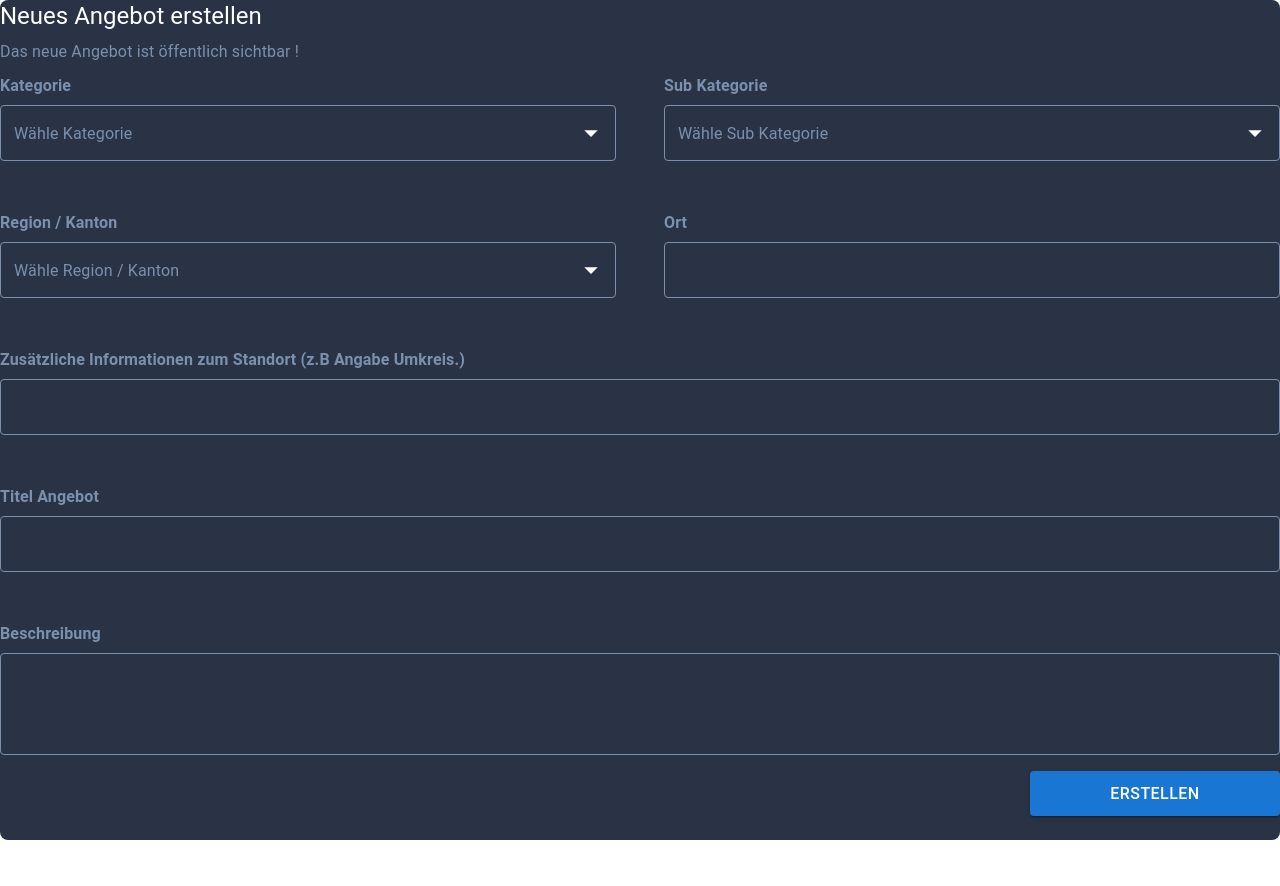
Test case: Create public-service component › shows validation errors for empty fields
The image size is (1280, 886).
Click the button "Erstellen".
click(1155, 794)  # box [1030, 771, 1279, 816]
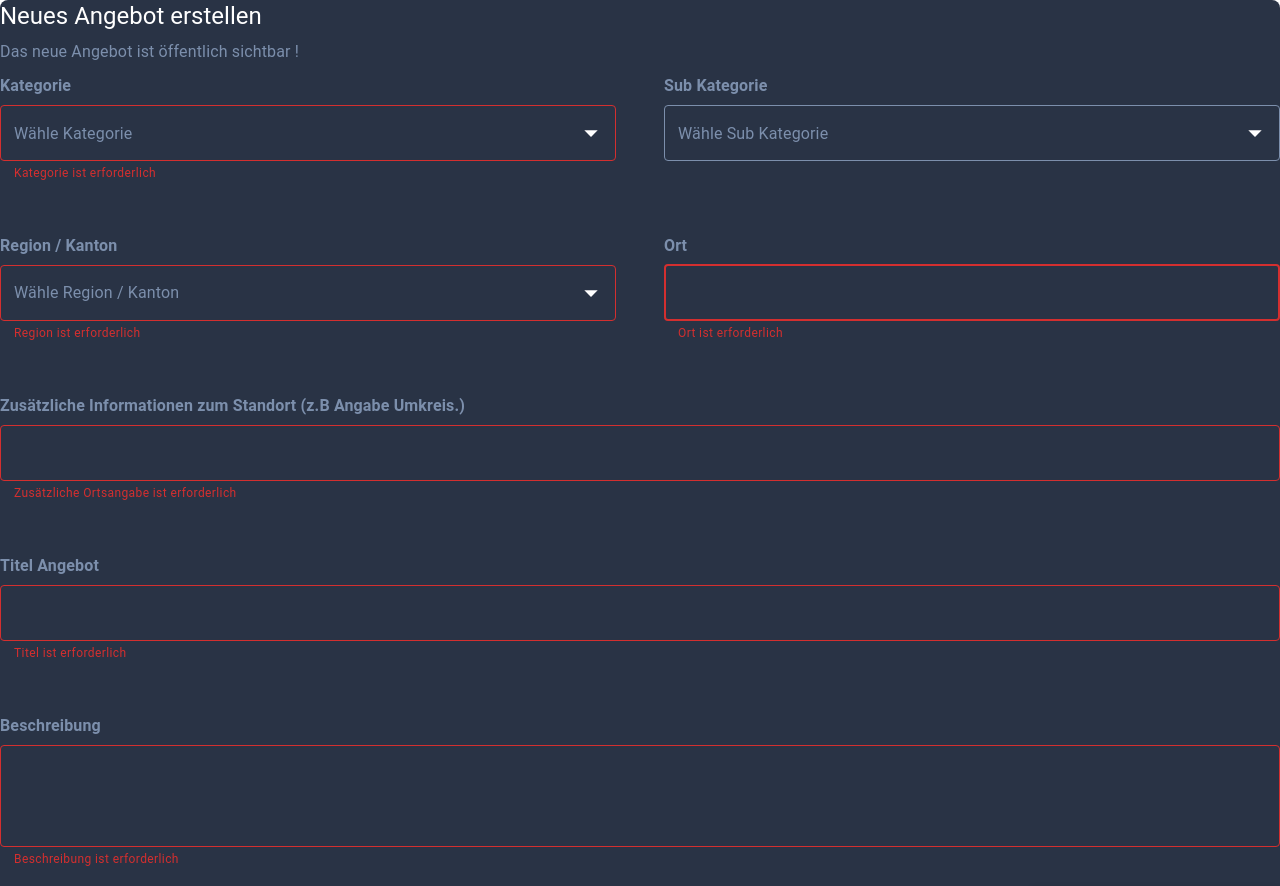
Result: the text "Kategorie ist erforderlich" is shown at [14, 166, 156, 180]
